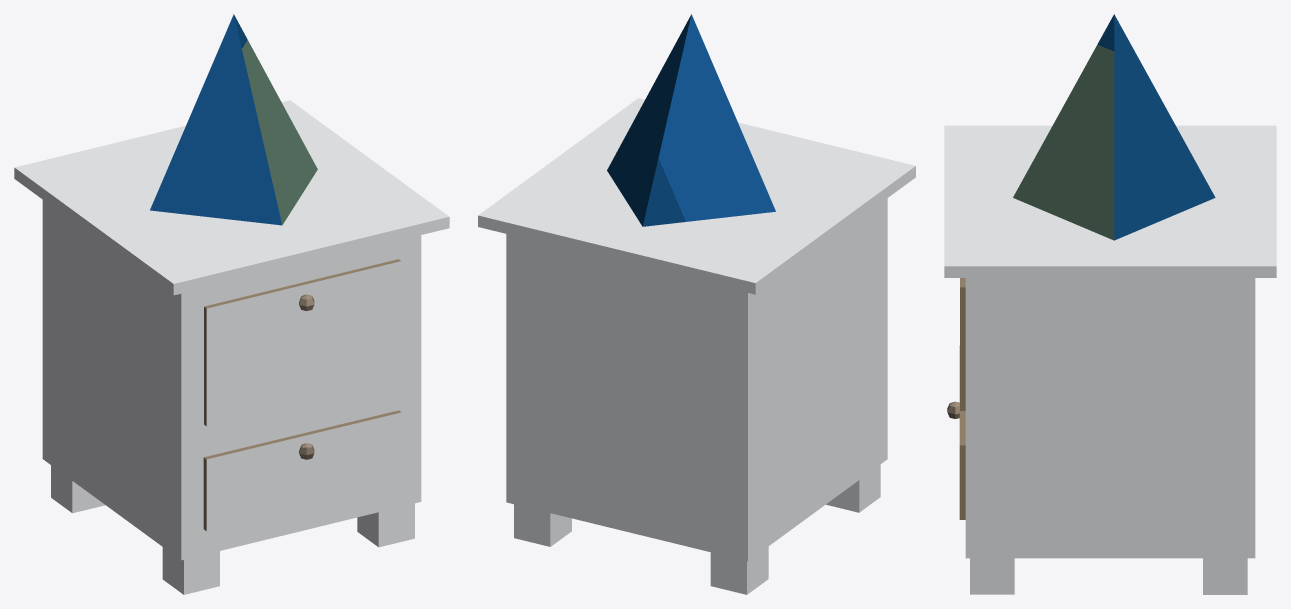
The model's file is Accesories_BedsideTable_A.glb.
The picture shows the model from 3 angles, left to right: view 1: azimuth 30°, elevation 25°; view 2: azimuth 150°, elevation 25°; view 3: azimuth 270°, elevation 25°; orthographic projection. The views are drawn at different scales.
Parts seen in each view (by area): view 1: Accesories_BedsideTable_A; view 2: Accesories_BedsideTable_A; view 3: Accesories_BedsideTable_A.
Part boxes in pixels (box(x1,y1,x2,y2)): Accesories_BedsideTable_A: box(14, 14, 449, 594); Accesories_BedsideTable_A: box(478, 14, 915, 594); Accesories_BedsideTable_A: box(944, 14, 1276, 594).
Bounding box in the file's own units: 0.3221 × 0.5596 × 0.3221.
Materials: 1 (1 with a texture image).
